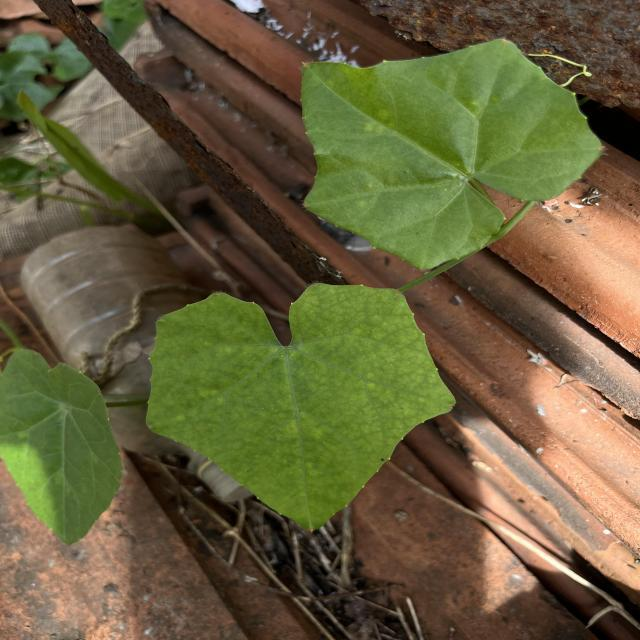Coccinia grandis: (142, 279, 458, 535), (298, 36, 608, 274)
